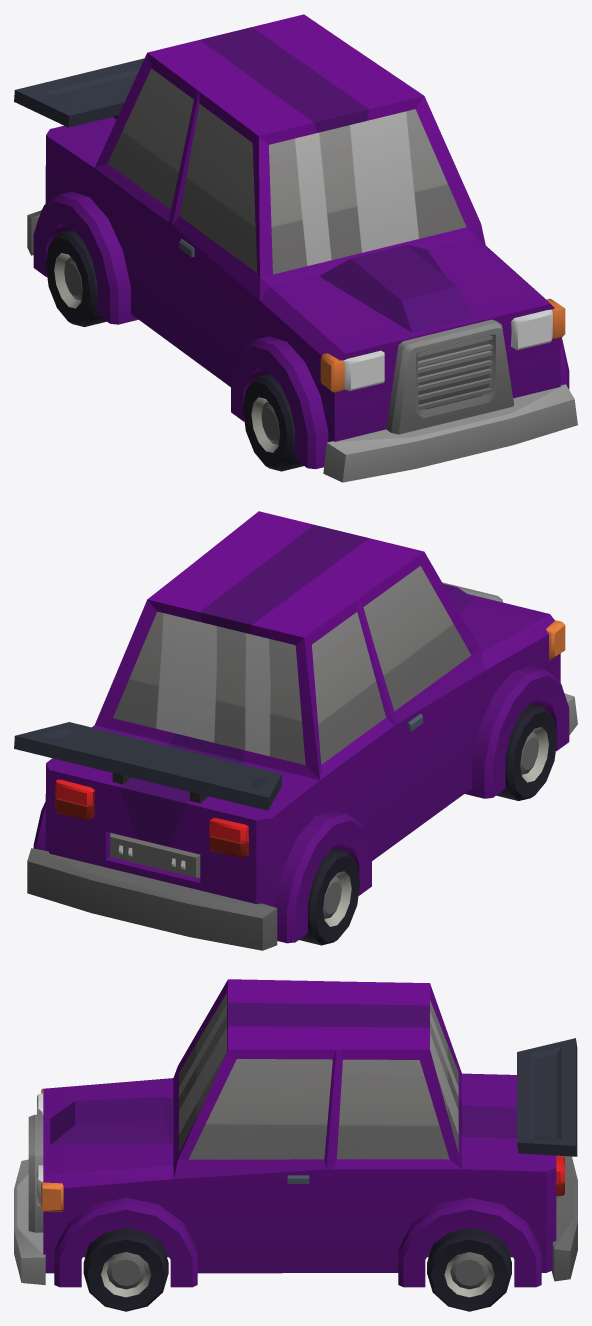
The model's file is SportCar_10.fbx.
3 views of the same model, one above another, from view 1: azimuth 30°, elevation 25°; view 2: azimuth 150°, elevation 25°; view 3: azimuth 270°, elevation 25° (orthographic). The views are drawn at different scales.
Parts seen in each view (by area): view 1: SportCar_10, Wheel_fr, Wheel_br; view 2: SportCar_10, Wheel_br, Wheel_fr; view 3: SportCar_10, Wheel_fl, Wheel_bl.
Part boxes in pixels (x1,y1,x2,y2): SportCar_10: [14, 14, 577, 482]; Wheel_fr: [243, 373, 303, 471]; Wheel_br: [45, 229, 106, 326]; SportCar_10: [14, 511, 577, 950]; Wheel_br: [299, 847, 360, 945]; Wheel_fr: [496, 703, 557, 800]; SportCar_10: [14, 979, 577, 1287]; Wheel_fl: [83, 1228, 168, 1311]; Wheel_bl: [427, 1228, 511, 1311].
Size of the model in its own units: 112 by 110 by 233.
